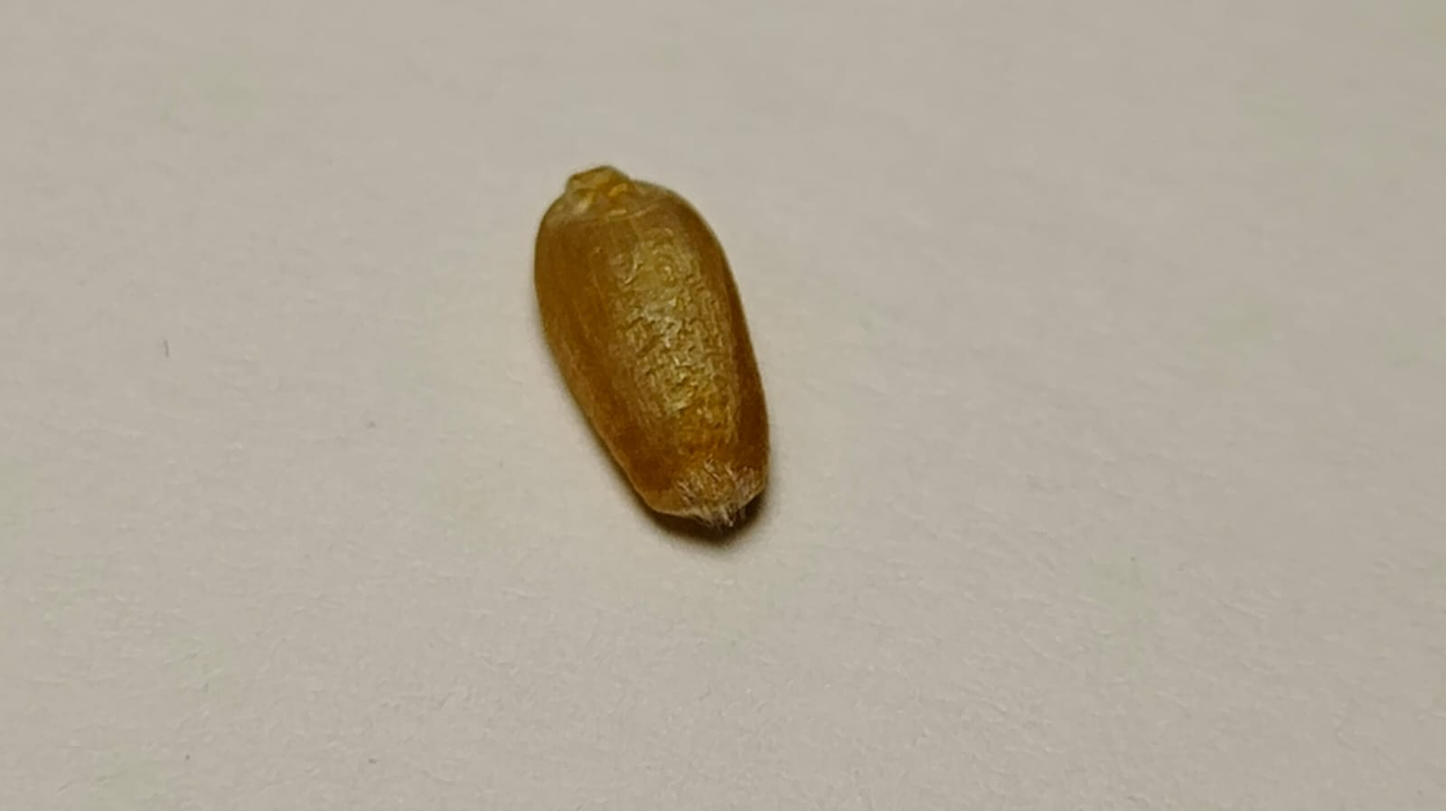healthy: (535, 166, 768, 523)
